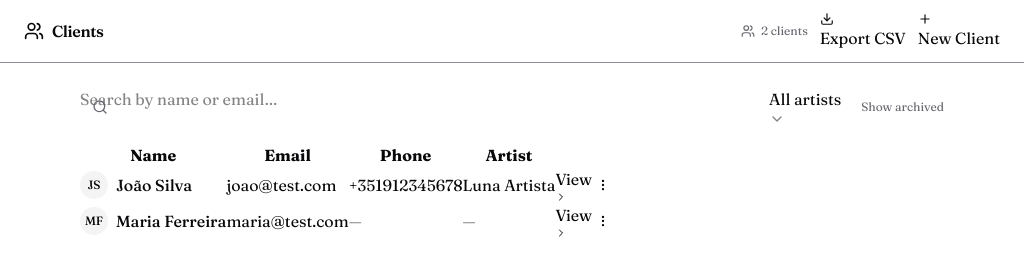
it: ClientListPage › selecting 'Unassigned' filters the table to clients with no artist
Click the dropdown named "filter by artist". click: [805, 107]
box: [769, 87, 841, 127]
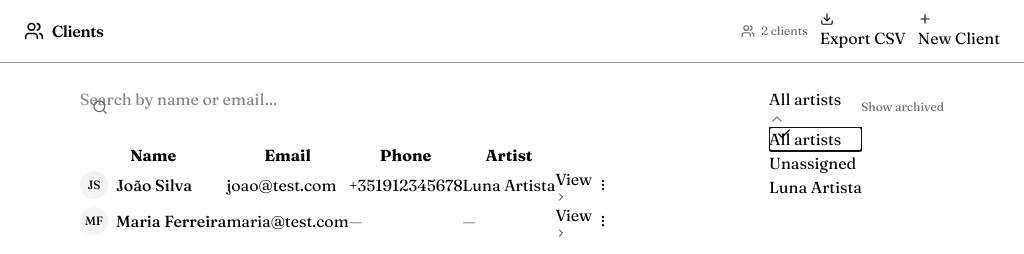
Click the option "Unassigned". click: [815, 163]
box: [769, 151, 862, 175]
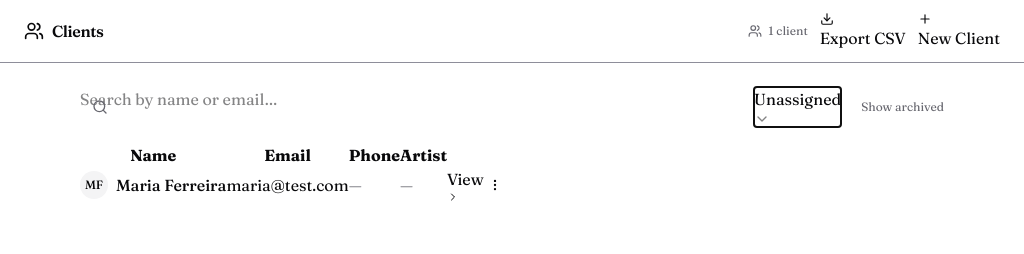
Expected: the text "Maria Ferreira" is shown 2 times
Expected: the text "João Silva" is gone
